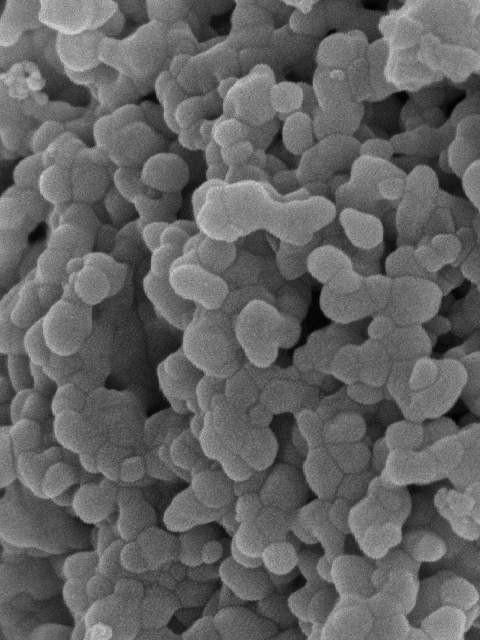nano: (327, 67, 347, 85)
